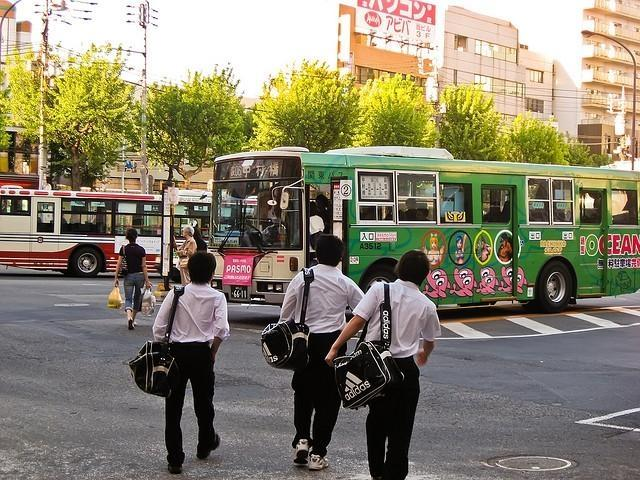bus: (209, 152, 640, 311), (1, 188, 161, 278)
